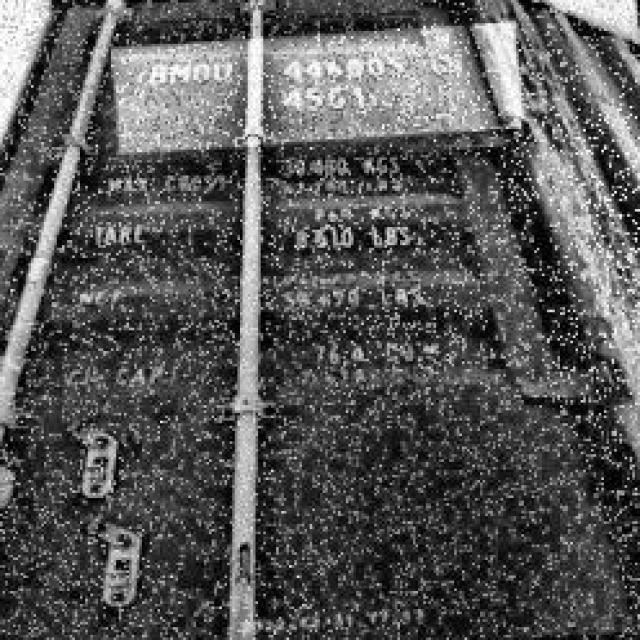ISO: (283, 84, 371, 108)
container_number: (138, 37, 506, 95)
